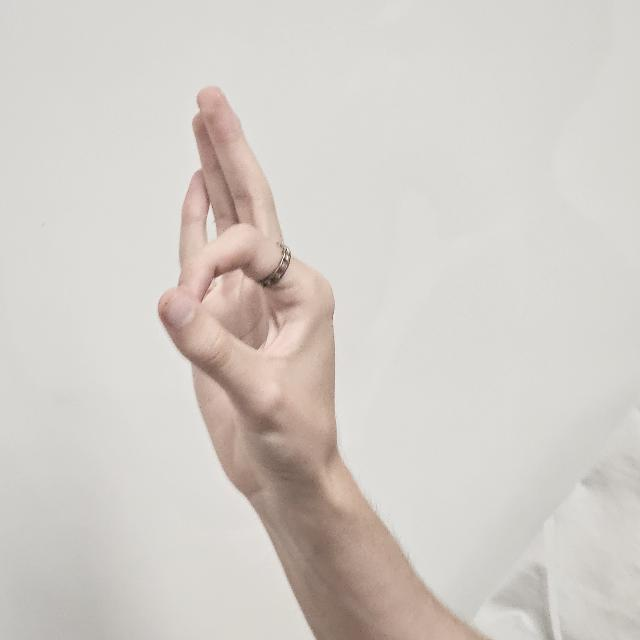Bolinha: (158, 80, 346, 528)
